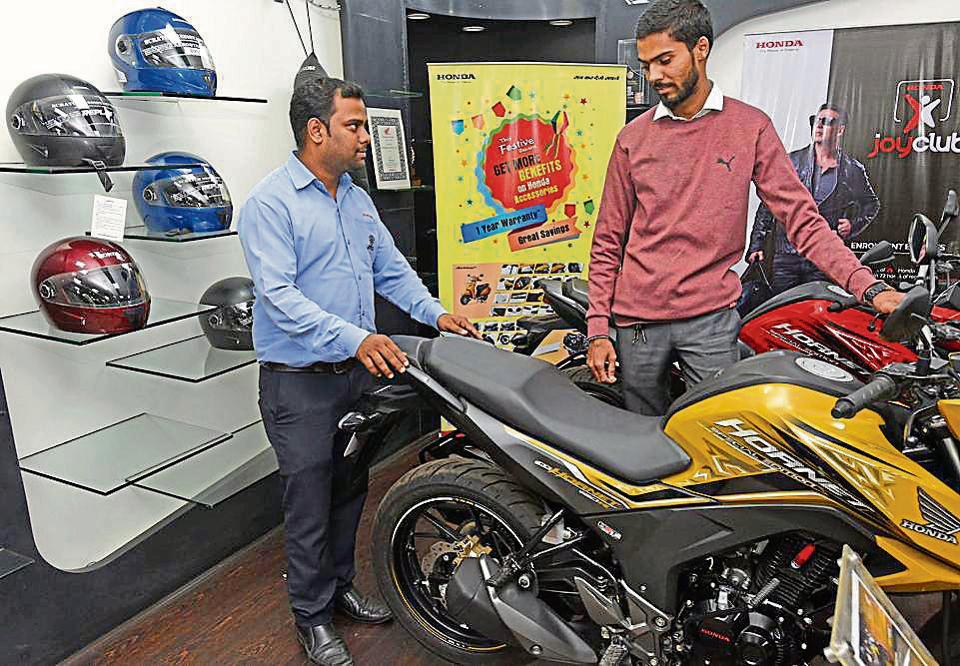Bike: (369, 331, 960, 663)
